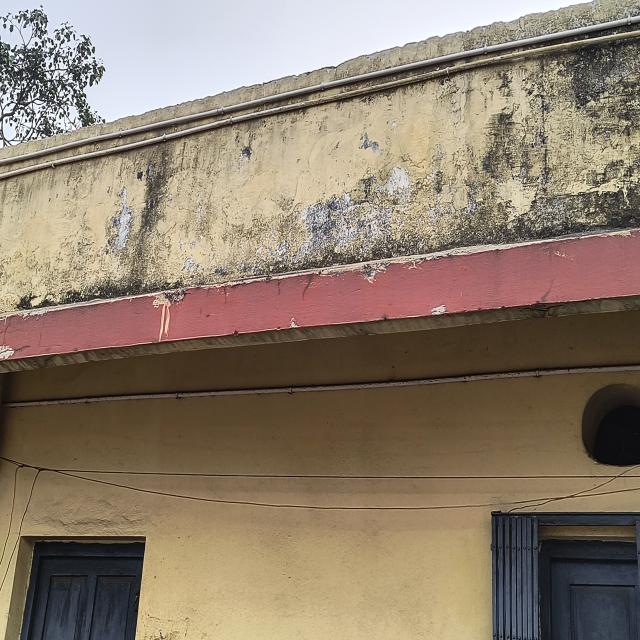Moss growth due to damping: (0, 3, 640, 315)
